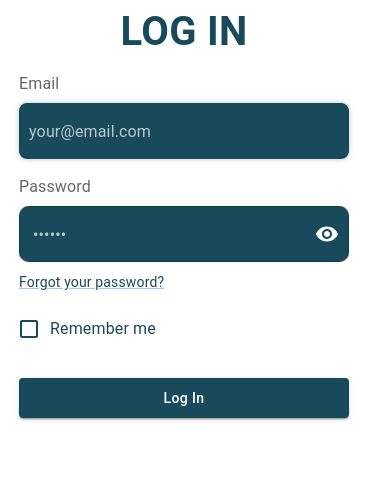
LogInCard component › shows validation error for invalid email
Type "invalid-email" into the field labelled "Email" at (184, 131), box [19, 103, 349, 159]
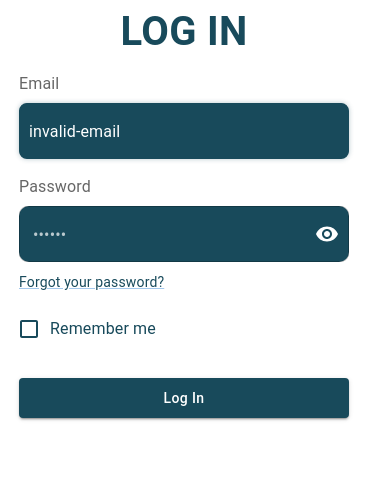
Click the button "Log In" at (184, 398), box [19, 378, 349, 418]
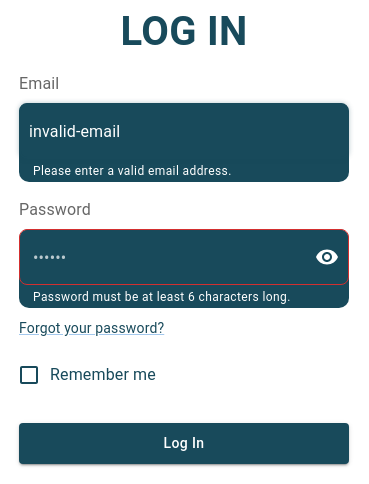
Result: the text "Please enter a valid email address." is shown at [33, 164, 232, 178]
